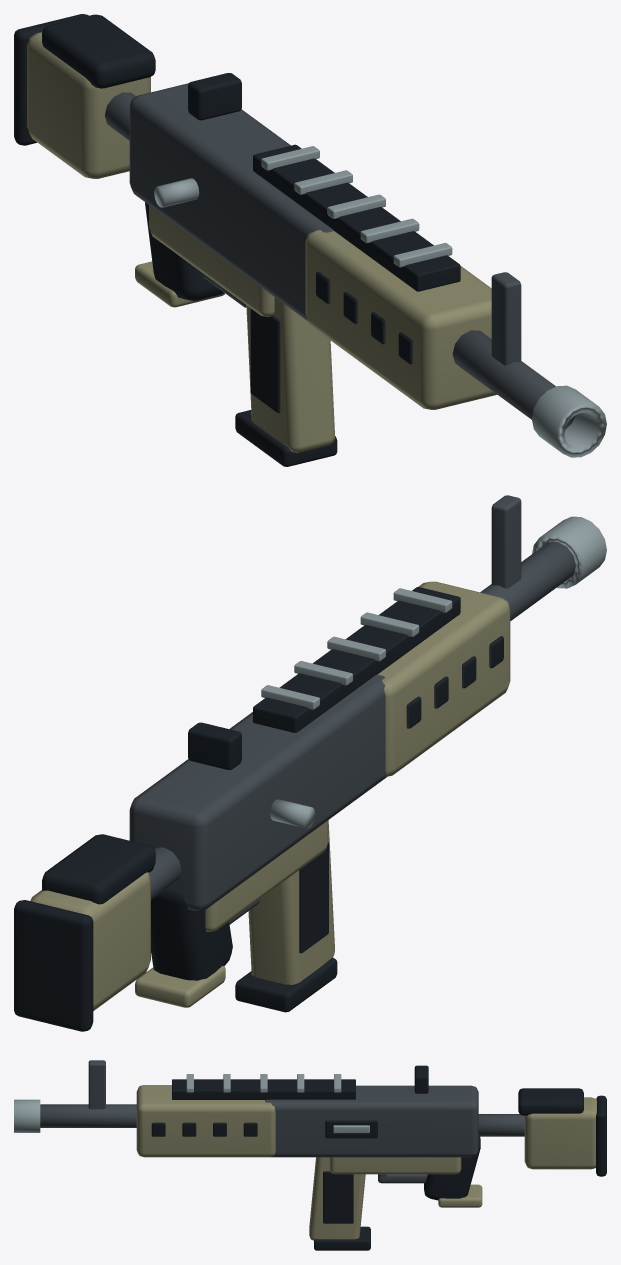
The picture shows the model from 3 angles, top to bottom: view 1: azimuth 30°, elevation 25°; view 2: azimuth 150°, elevation 25°; view 3: azimuth 270°, elevation 25°; orthographic projection. The views are drawn at different scales.
Visible parts, largest first — view 1: m4_m4 painted furniture, m4_Cerakote graphite, m4_Recesses and rubber, m4_Machined edges; view 2: m4_Recesses and rubber, m4_Cerakote graphite, m4_m4 painted furniture, m4_Machined edges; view 3: m4_Cerakote graphite, m4_m4 painted furniture, m4_Recesses and rubber, m4_Machined edges.
Boxes of the visible parts, <box> form: m4_m4 painted furniture: <box>27,32,497,452</box>; m4_Cerakote graphite: <box>104,83,575,429</box>; m4_Recesses and rubber: <box>14,14,460,466</box>; m4_Machined edges: <box>154,146,606,457</box>; m4_Recesses and rubber: <box>14,587,503,1031</box>; m4_Cerakote graphite: <box>129,495,575,924</box>; m4_m4 painted furniture: <box>30,581,510,1010</box>; m4_Machined edges: <box>261,516,606,828</box>; m4_Cerakote graphite: <box>40,1060,524,1183</box>; m4_m4 painted furniture: <box>136,1085,596,1240</box>; m4_Recesses and rubber: <box>151,1065,606,1250</box>; m4_Machined edges: <box>14,1074,369,1133</box>.
Bounding box in the file's own units: 0.1444 × 0.3672 × 1.08.
